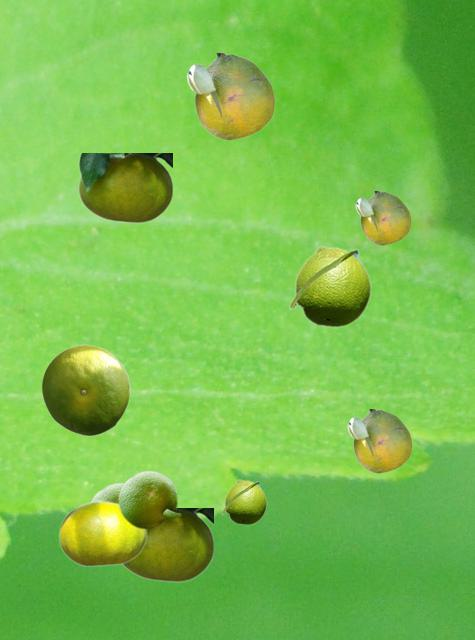dalandan: (41, 344, 129, 435), (186, 53, 274, 139), (288, 245, 371, 327), (122, 508, 212, 581), (78, 153, 171, 222), (58, 500, 146, 566), (347, 409, 411, 472), (117, 469, 181, 528), (355, 191, 410, 244), (221, 479, 266, 524), (89, 481, 122, 501)
